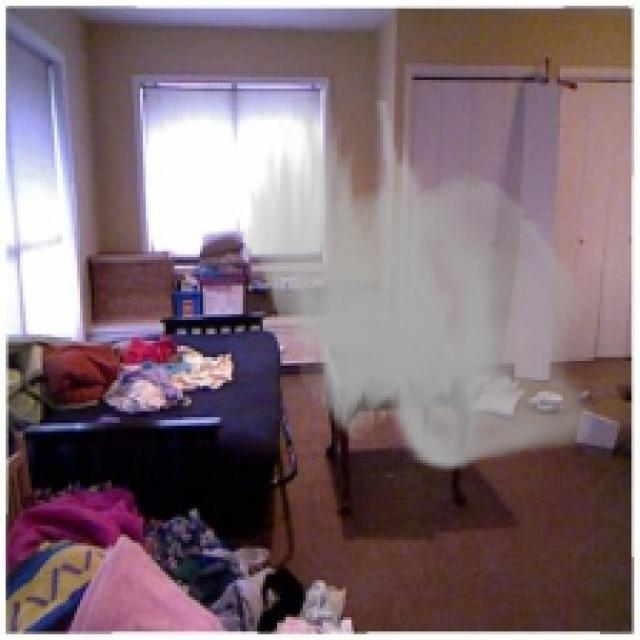Smoke: (240, 97, 594, 472)
